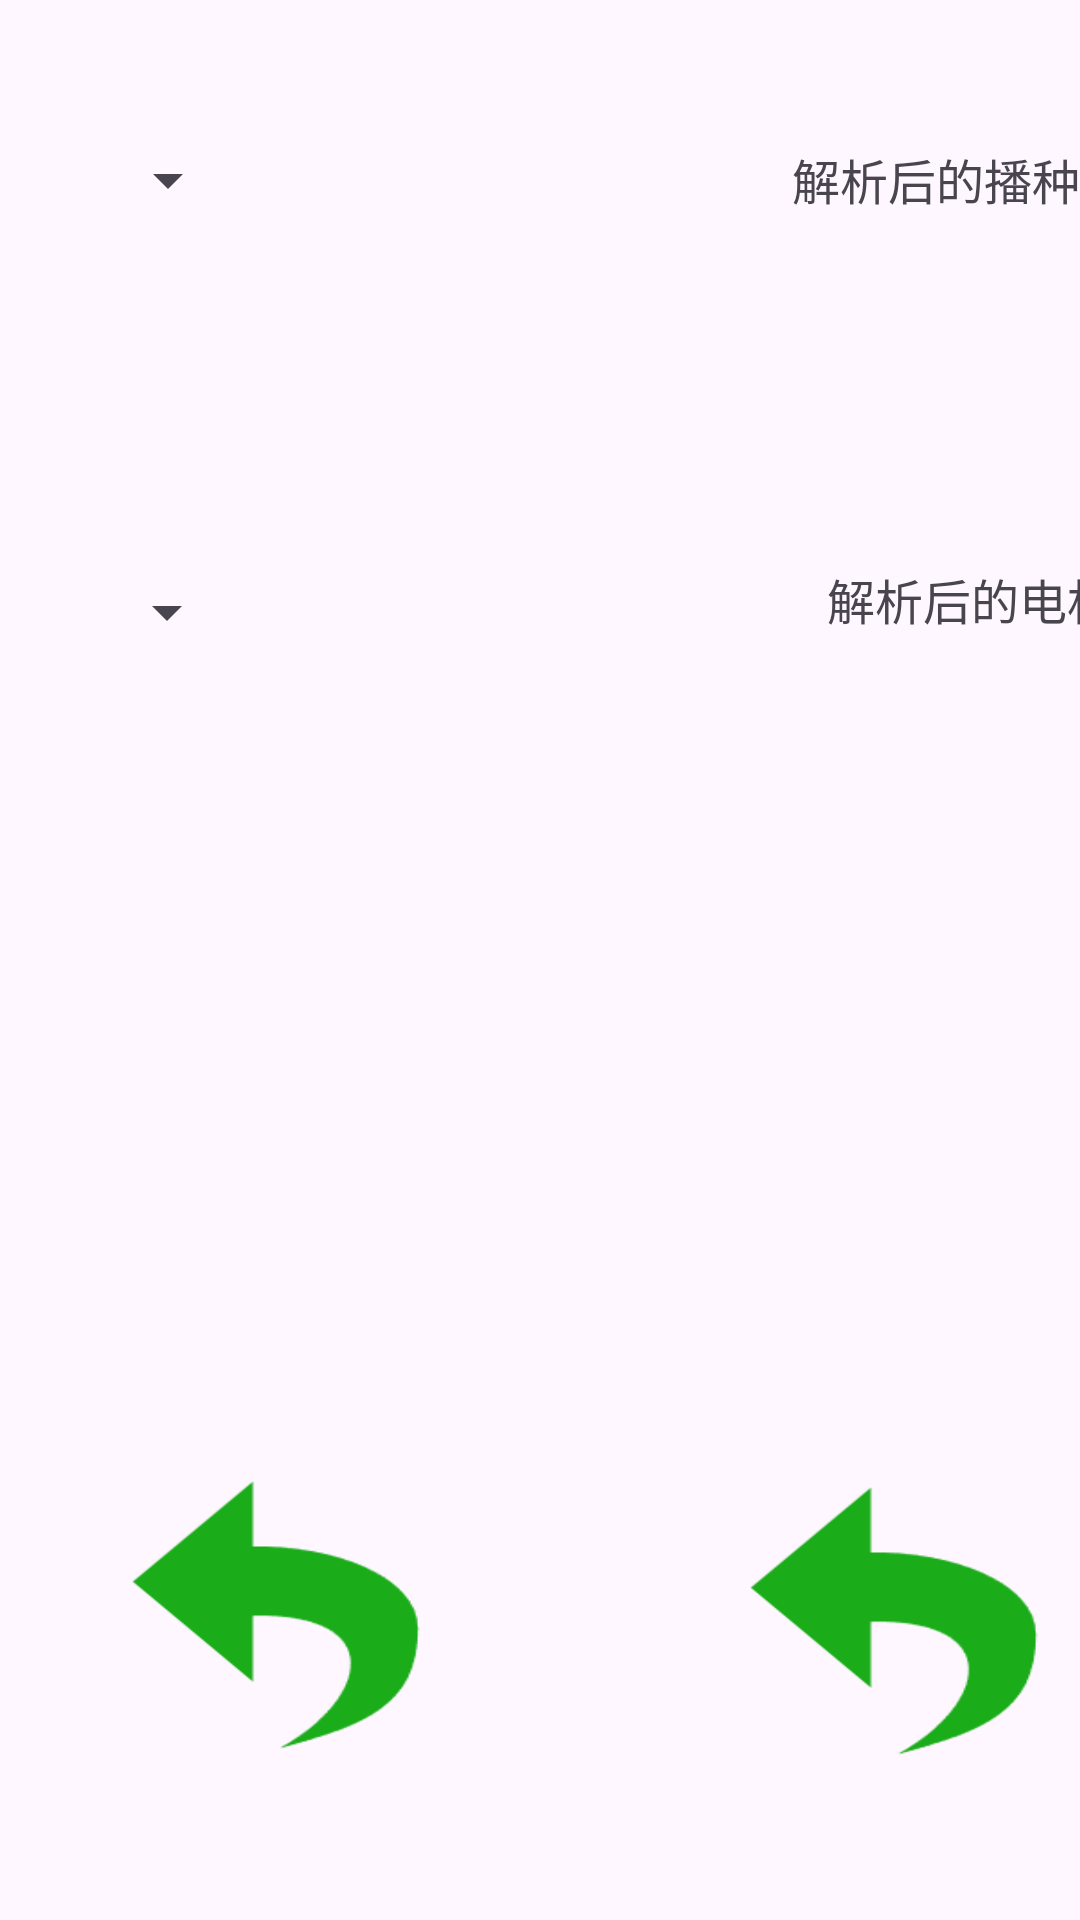

Screen size 1080 × 1920. Icon name, then its center in pixels as (x=x, y=y):
返回: (x=276, y=1615), (x=894, y=1621)
